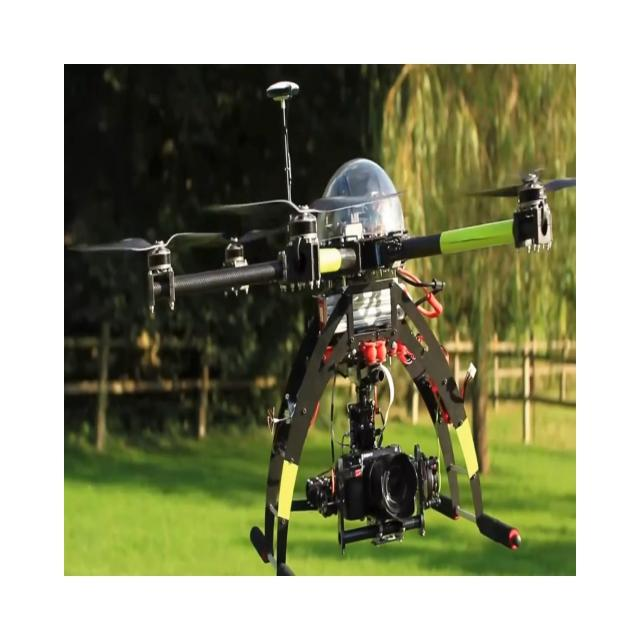drone: (65, 78, 576, 574)
